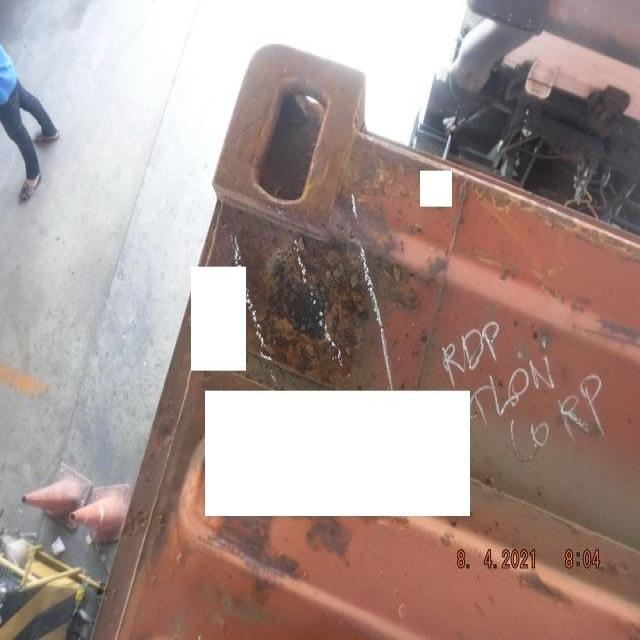rust: (258, 249, 367, 385)
